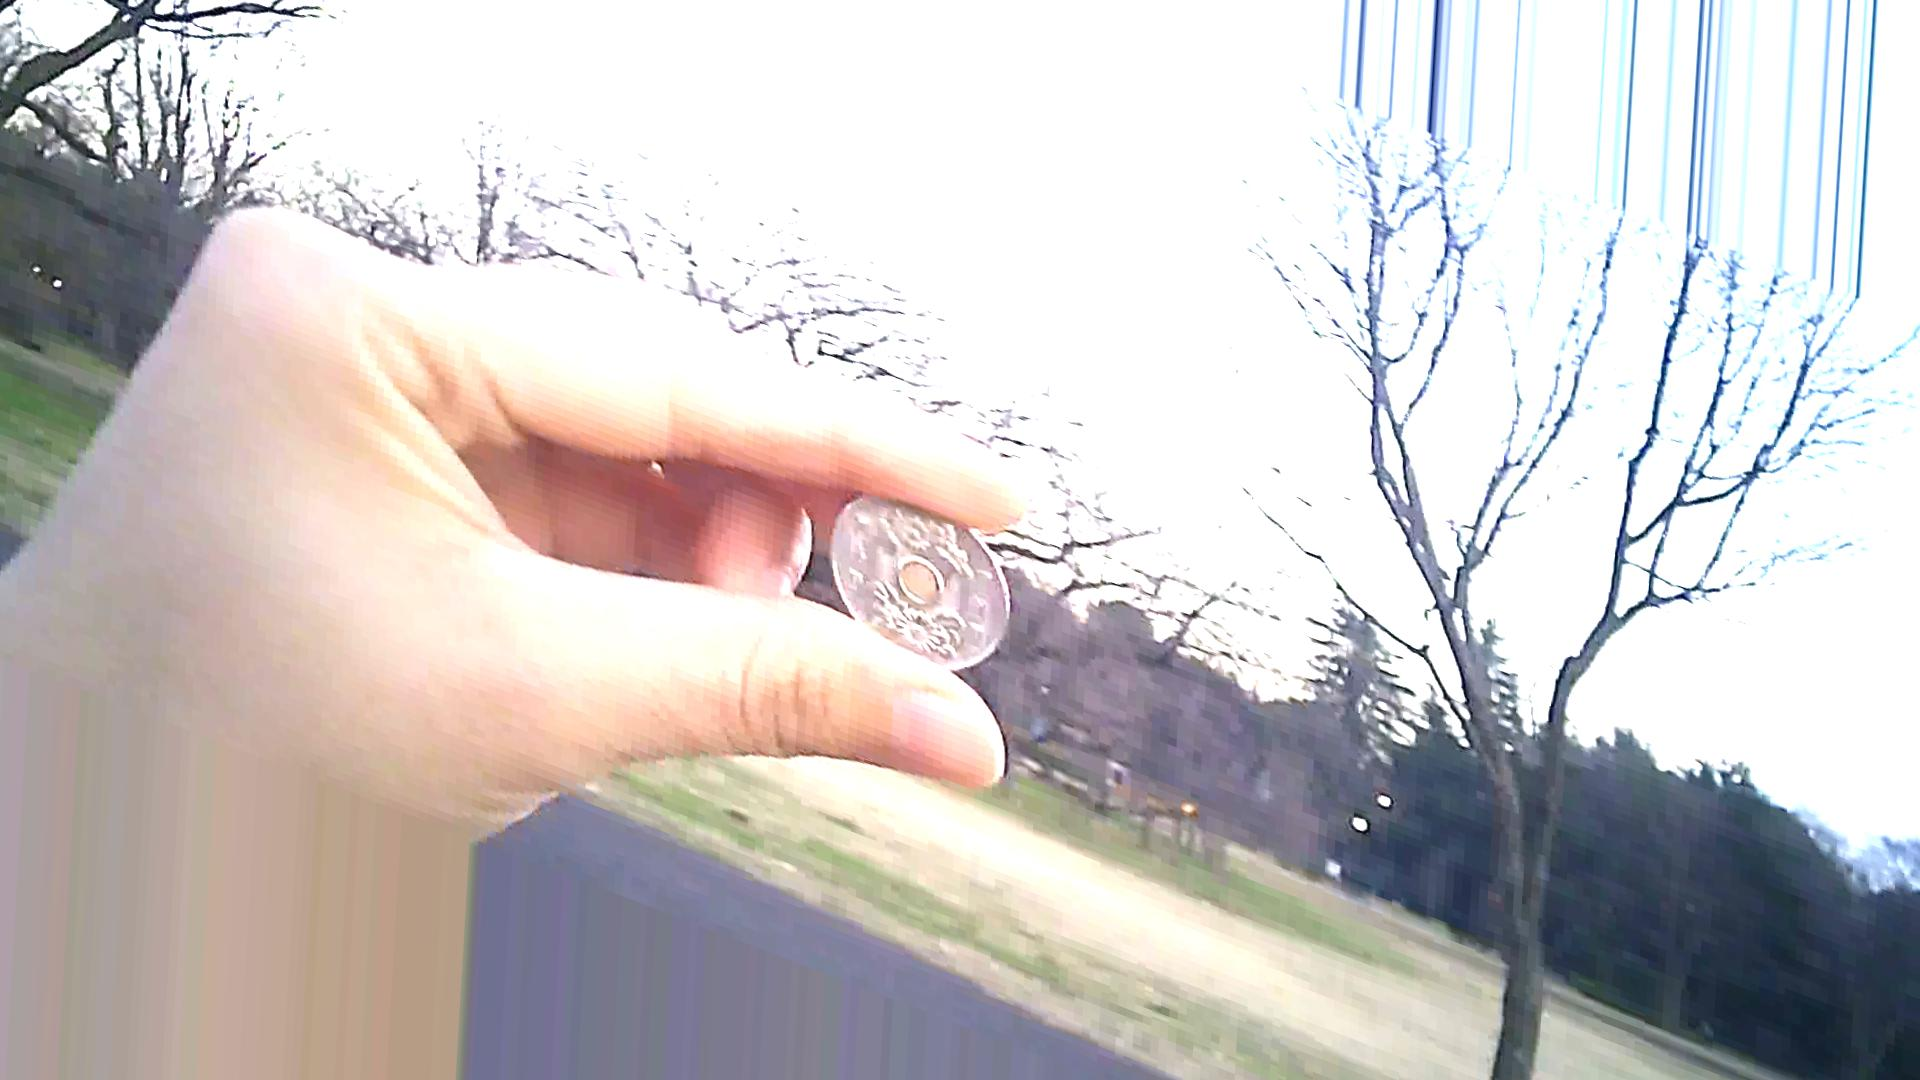50 Yen: (810, 471, 1010, 675)
